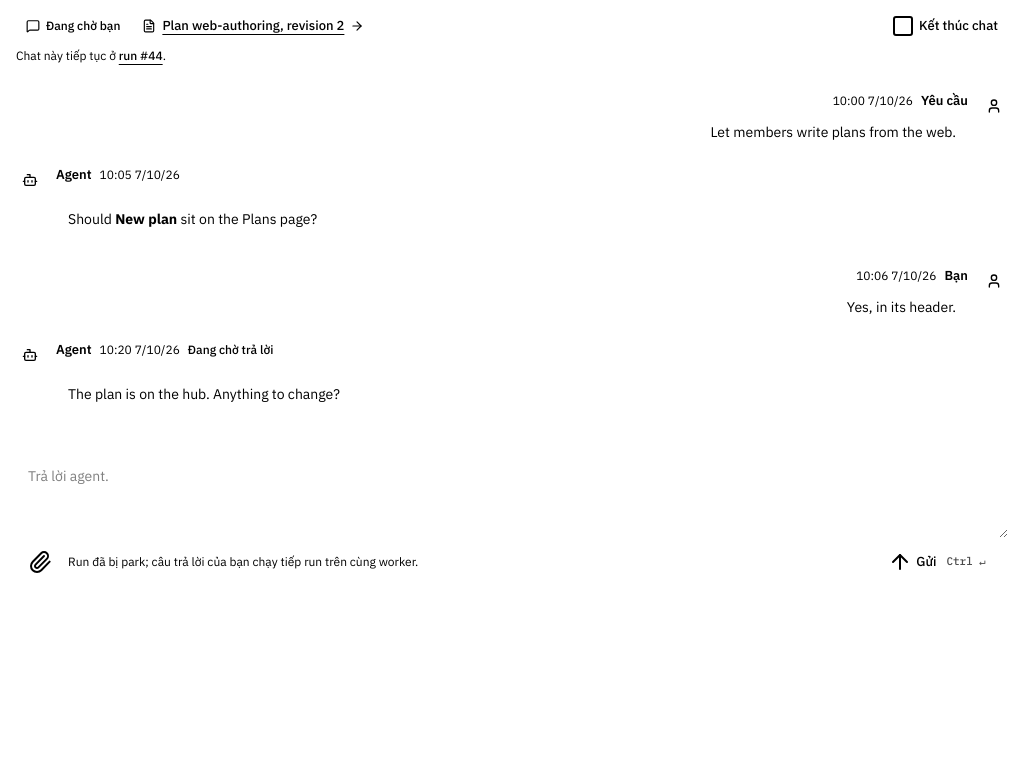
Test case: RunChatPanel › posts the owner's reply to the run that takes the chat's next message, and refuses a blank one
Expected: the form with test id "run-chat-reply" shows "Run đã bị park; câu trả lời của bạn chạy tiếp run trên cùng worker.", left=68, top=554, right=418, bottom=568
Click the button with test id "run-chat-send" at (939, 562), box left=878, top=548, right=1000, bottom=576
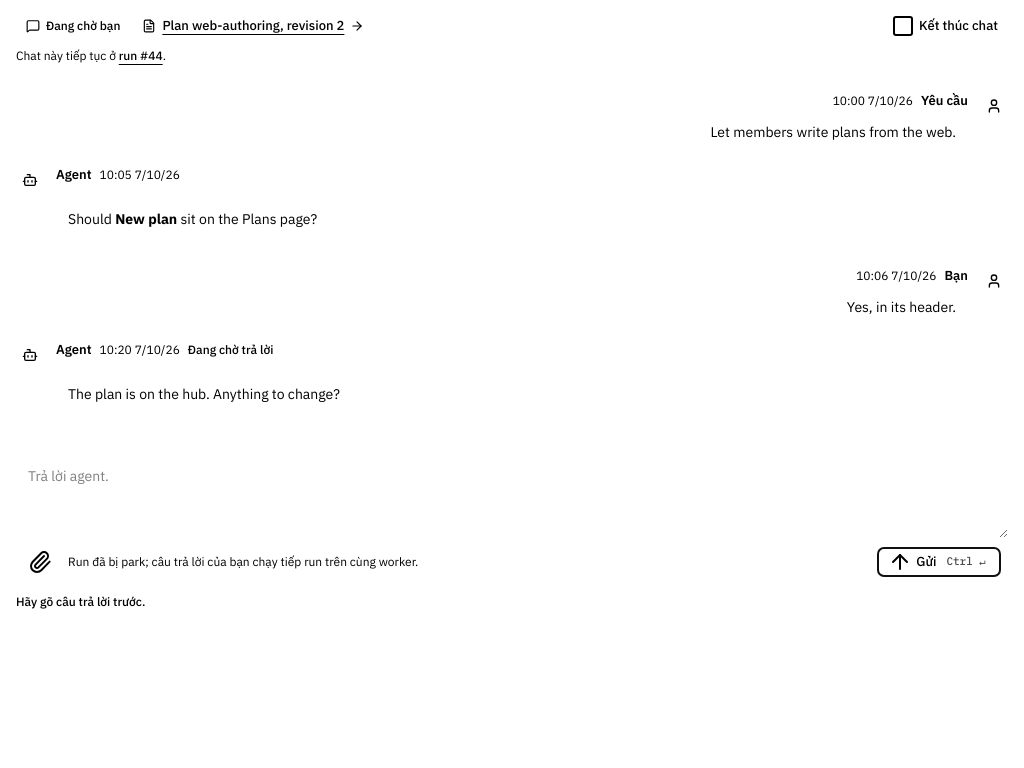
Now the text with test id "run-chat-reply-problem" reads "Hãy gõ câu trả lời trước.", box left=16, top=594, right=145, bottom=608
Type "Ship it." into the text box labelled "Trả lời agent" at (512, 496), box left=16, top=454, right=1008, bottom=538
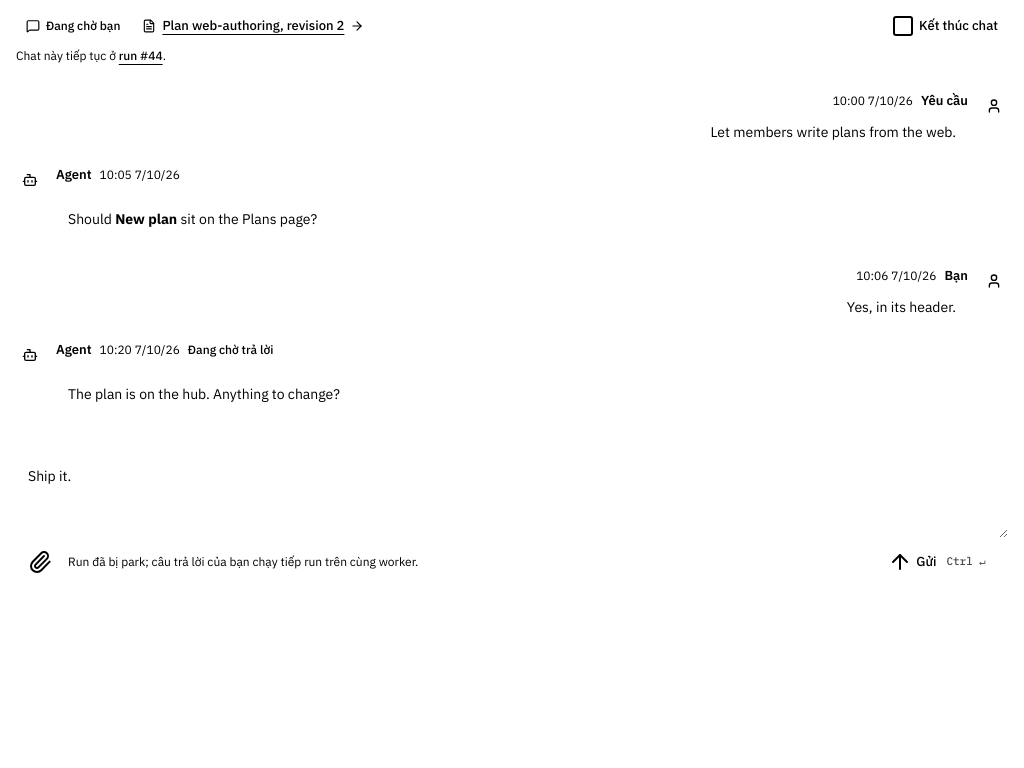
Type keys "{Control>}{Enter}{/Control}"
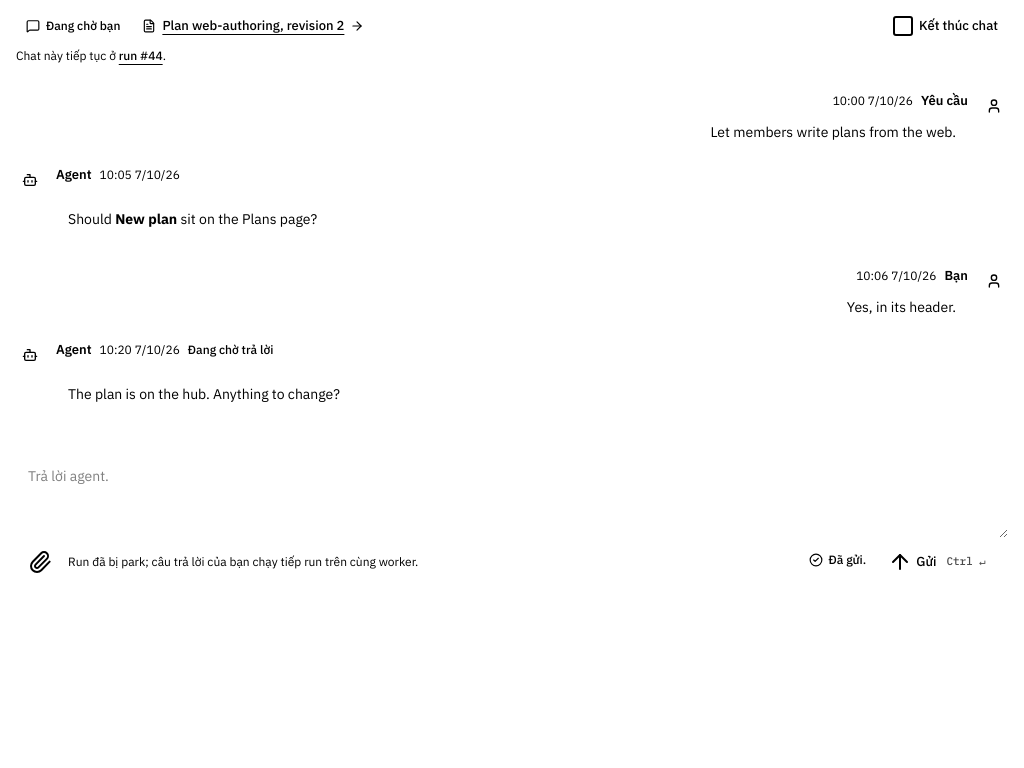
Now the element with test id "run-chat-reply-sent" reads "Đã gửi.", box left=828, top=552, right=866, bottom=567
